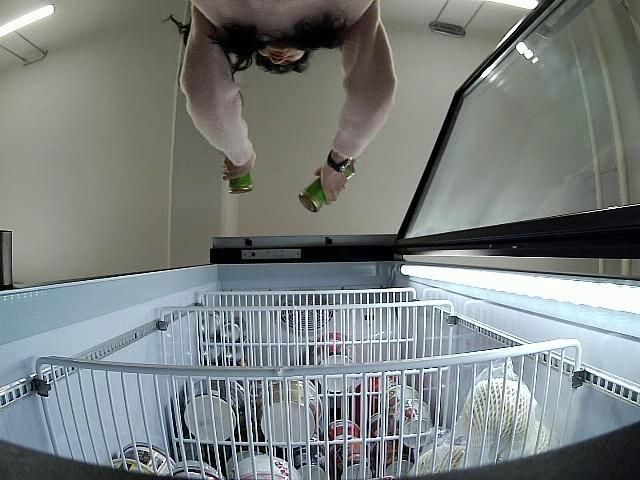19_17cha: (299, 160, 354, 214), (229, 166, 256, 196)
